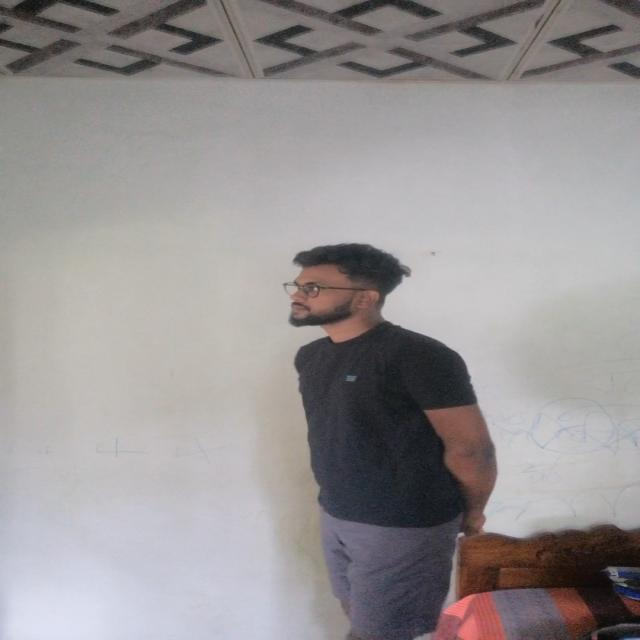Person: (266, 238, 498, 640)
